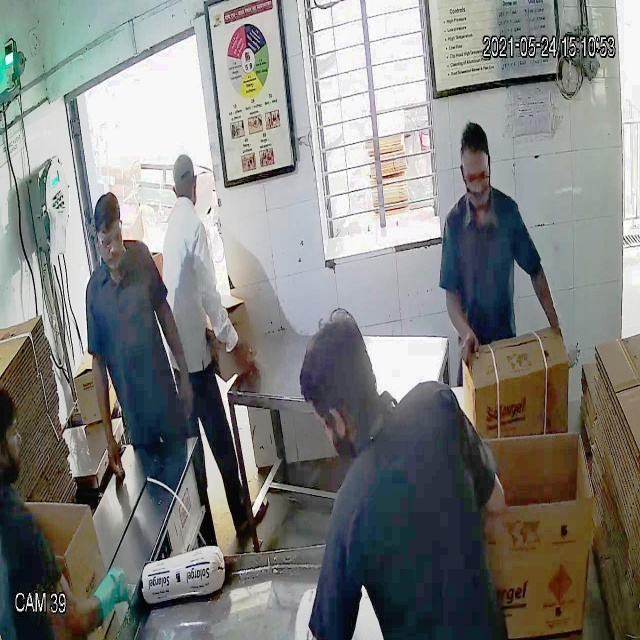Gafas: (93, 224, 129, 253)
